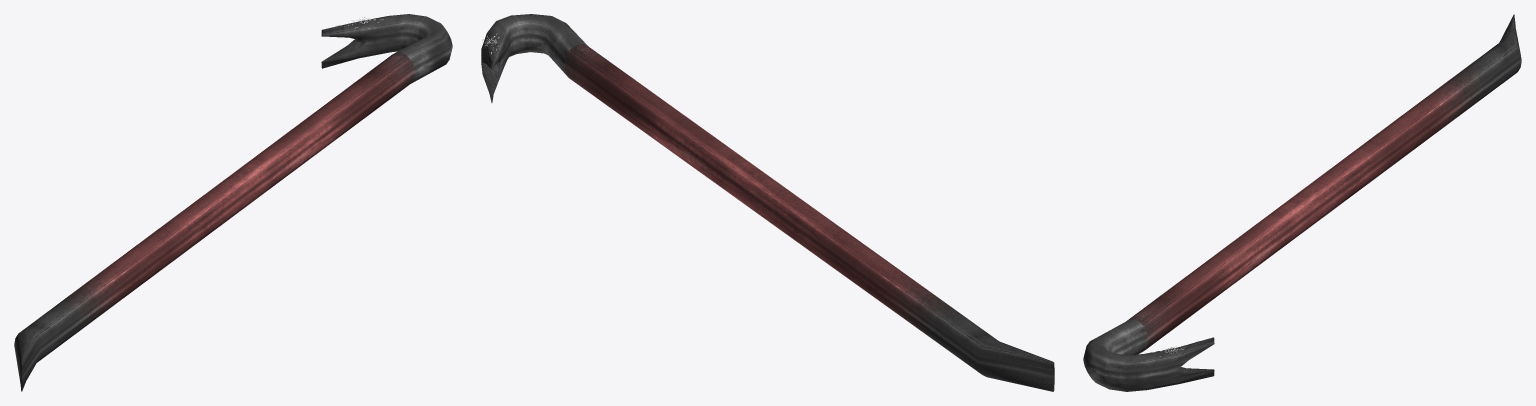
Rendered from Trace-Evidence-Paint.gltf.
The picture shows the model from 3 angles, left to right: view 1: azimuth 90°, elevation 25°; view 2: azimuth 150°, elevation 25°; view 3: azimuth 270°, elevation 25°; orthographic projection. The views are drawn at different scales.
Parts seen in each view (by area): view 1: 9.0.243.0; view 2: 9.0.243.0; view 3: 9.0.243.0.
Boxes of the visible parts, left/top/right/bottom form: 9.0.243.0: left=14, top=14, right=452, bottom=391; 9.0.243.0: left=481, top=14, right=1054, bottom=391; 9.0.243.0: left=1083, top=14, right=1521, bottom=391.
Bounding box in the file's own units: 9.96 × 0.5158 × 5.26.
Materials: 3 (2 with a texture image).
